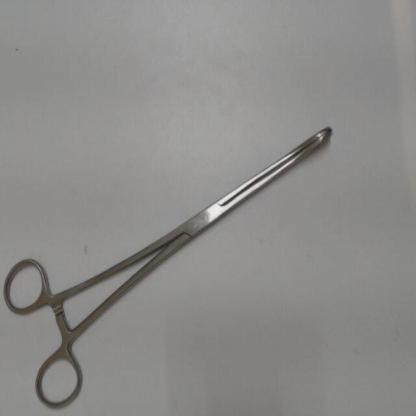Sponge Forceps: (0, 114, 343, 414)
